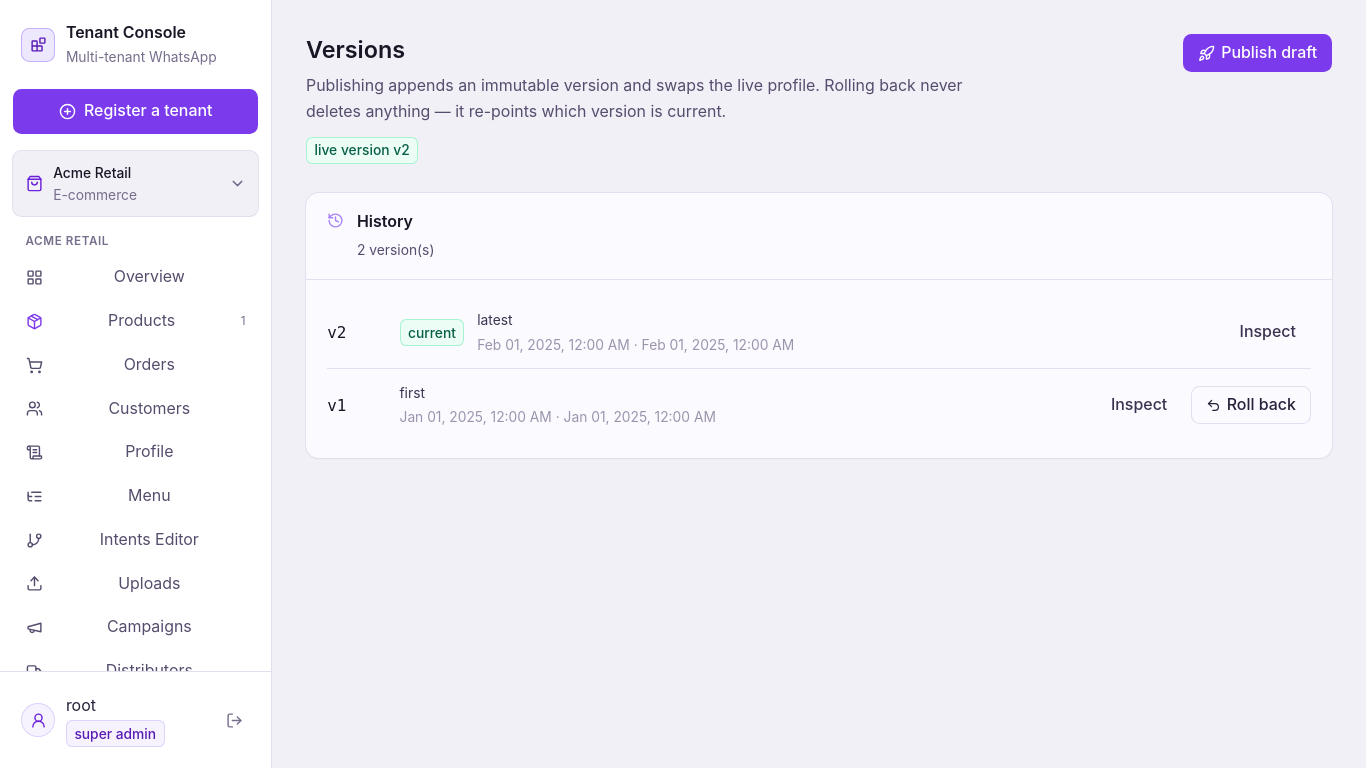
Test case: versions page interactions › publishes a draft and toasts the new version
Step 1. Click the button "Publish draft" → (1258, 53), box [1183,34,1332,72]
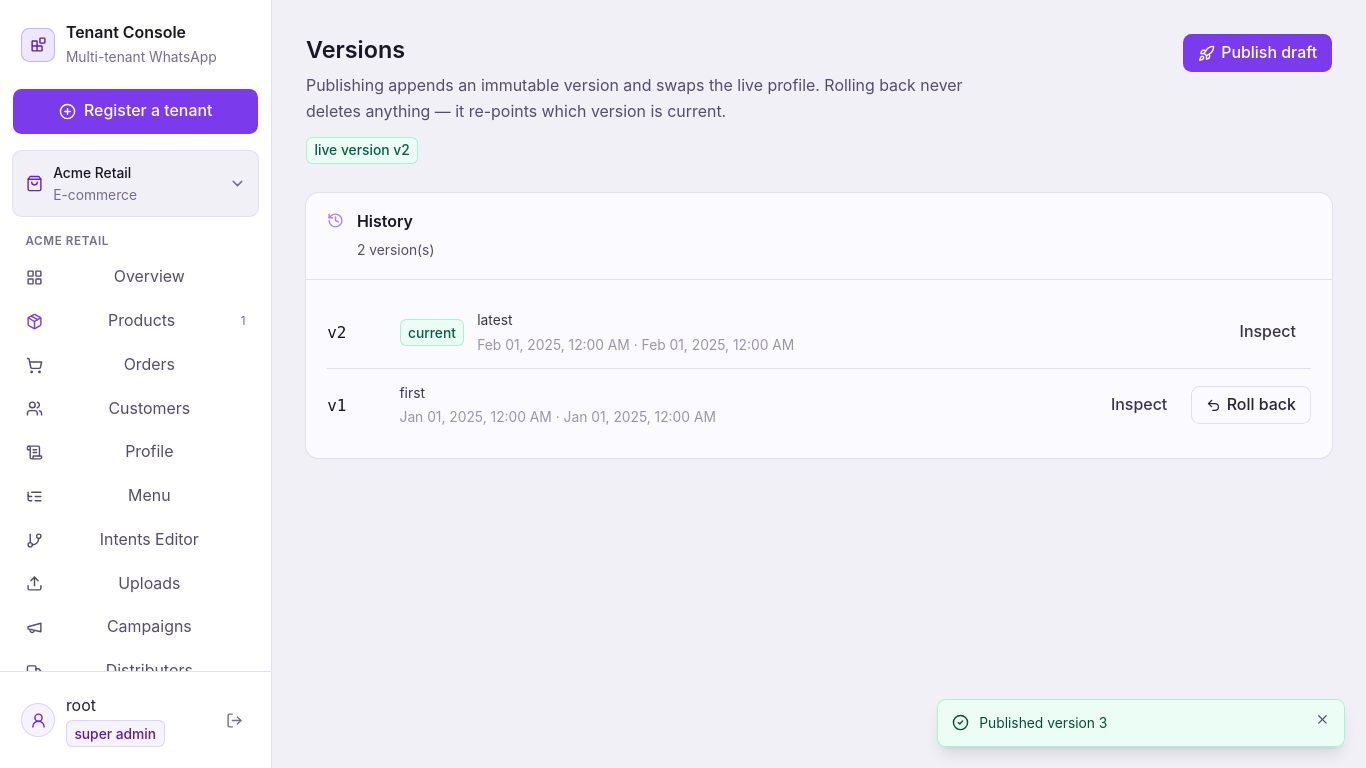
Result: the text "Published version 3" is shown at [979,715,1107,731]
